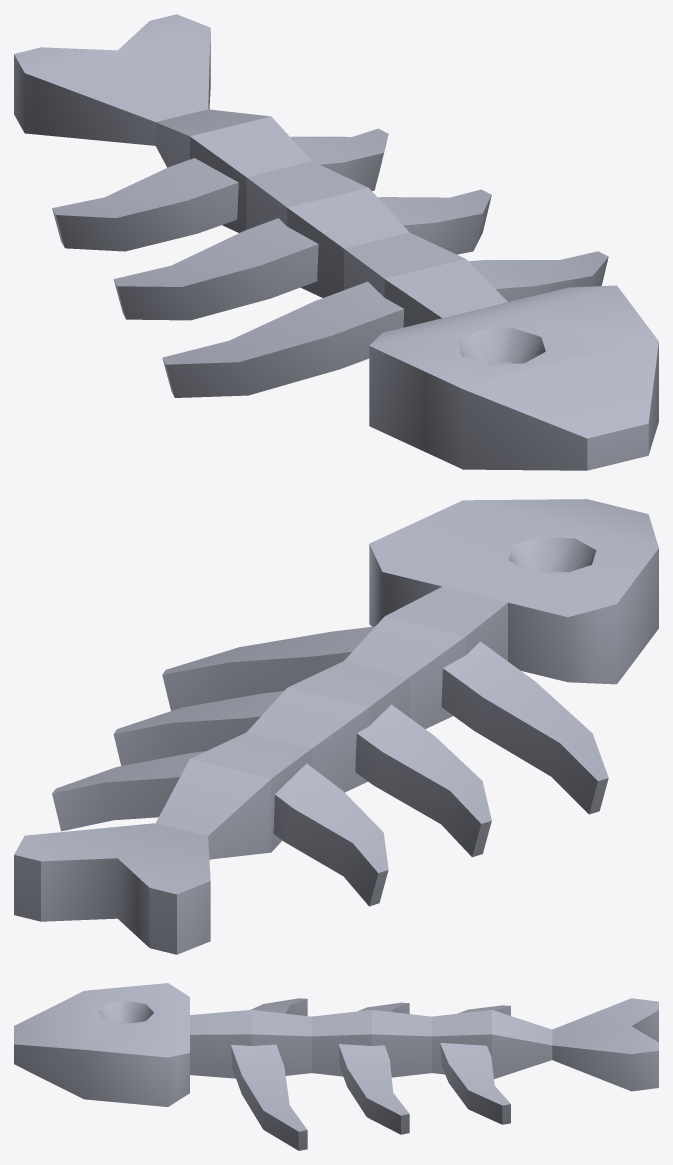
Rendered from fish-bones.glb.
3 renders of one model, top to bottom at view 1: azimuth 30°, elevation 25°; view 2: azimuth 150°, elevation 25°; view 3: azimuth 270°, elevation 25°, orthographic. The views are drawn at different scales.
Parts seen in each view (by area): view 1: fish-bones; view 2: fish-bones; view 3: fish-bones.
Part boxes in pixels (left/top/right/bottom): fish-bones: left=14, top=14, right=658, bottom=470; fish-bones: left=14, top=499, right=658, bottom=954; fish-bones: left=14, top=983, right=658, bottom=1150.
Bounding box in the file's own units: 0.3113 × 0.0726 × 0.6358.
